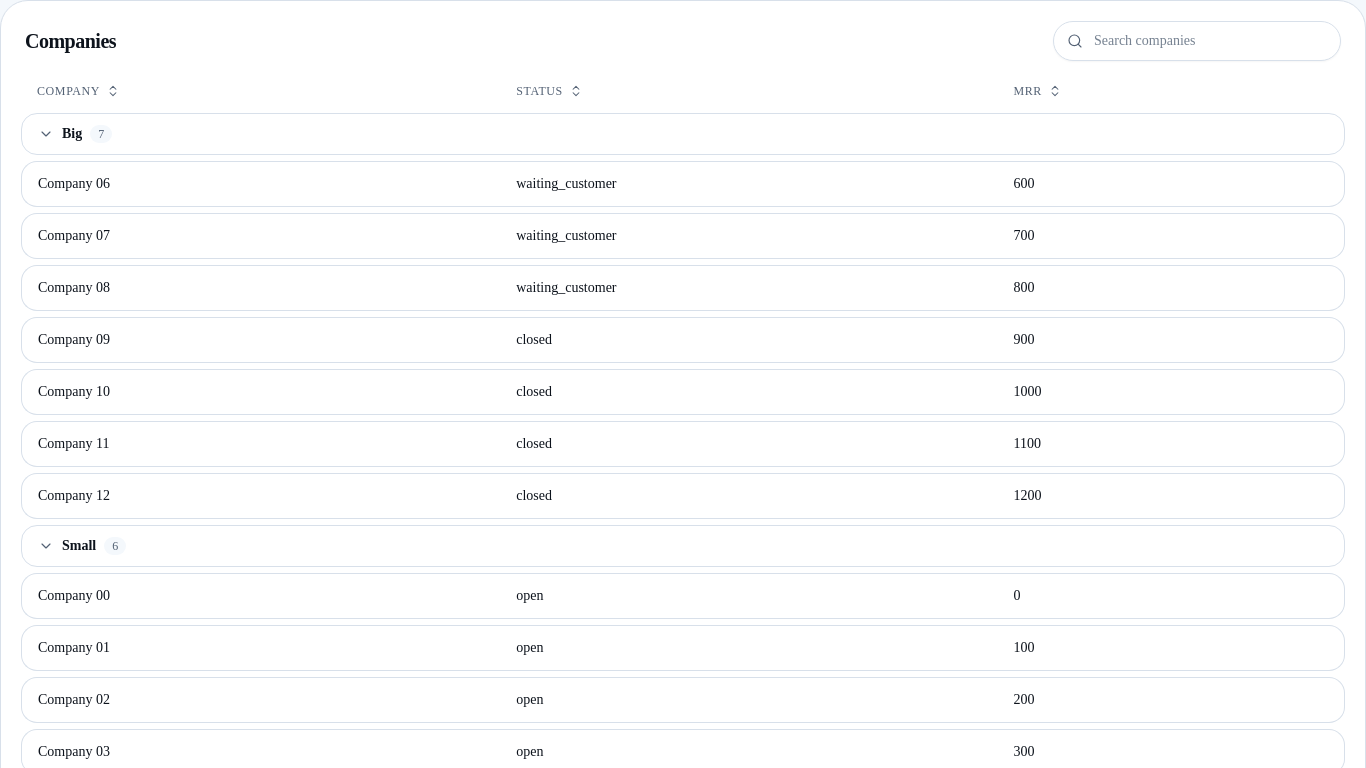
it: grouped rows (CRM step 10) › shows every row under group headings that fold, without pages
Click the button "Big 7".
click(46, 134)  # box [38,120,1328,148]
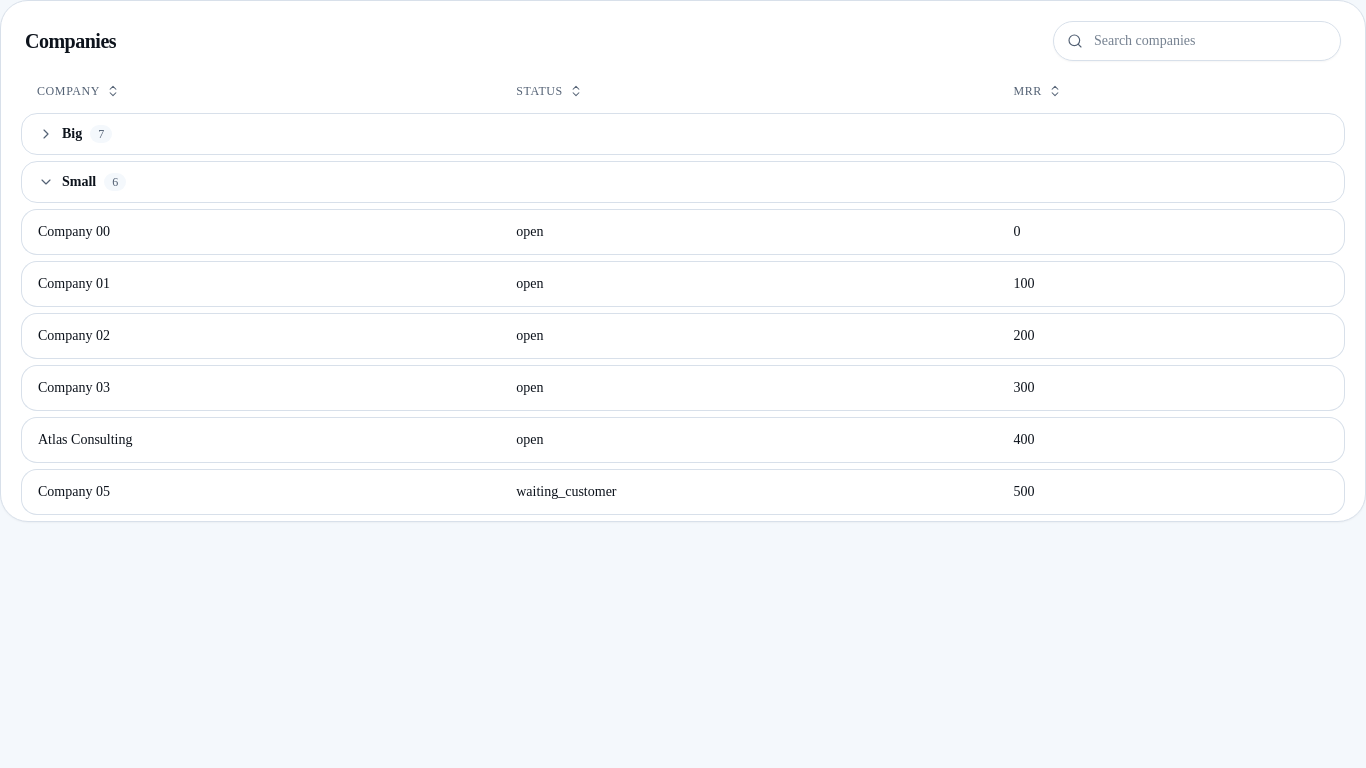
Now the button "Big 7" is collapsed, box [38,120,1328,148]
